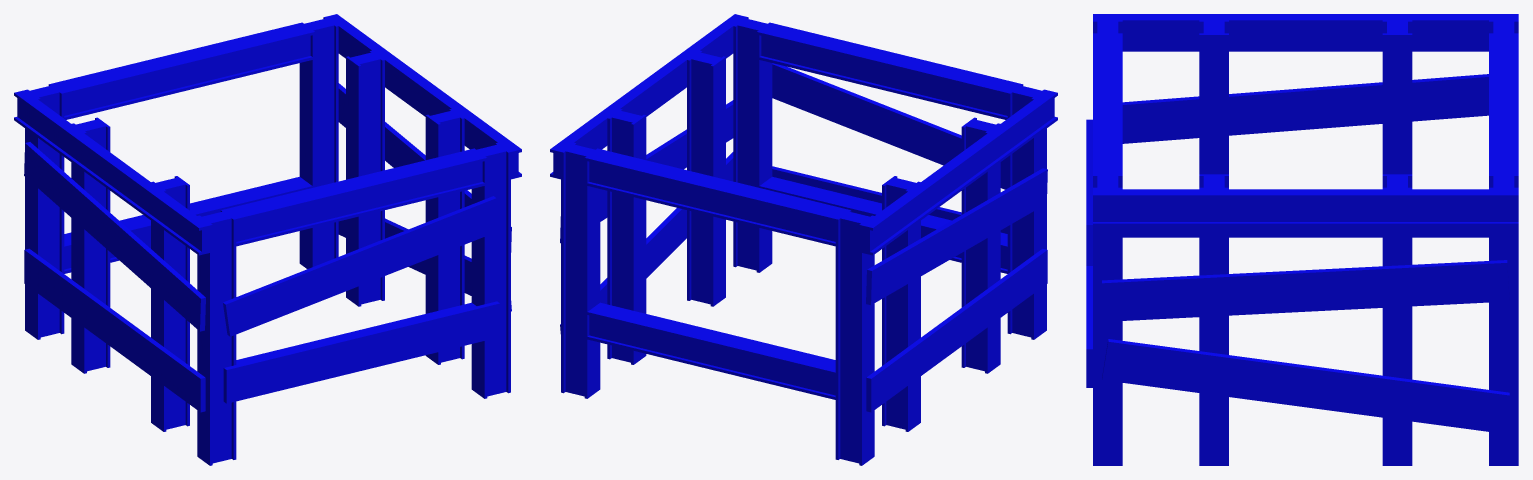
Rendered from Elevator_Tunnel_02.fbx.
3 views of the same model, side by side, from view 1: azimuth 30°, elevation 25°; view 2: azimuth 150°, elevation 25°; view 3: azimuth 270°, elevation 25° (orthographic). The views are drawn at different scales.
Parts seen in each view (by area): view 1: Elevator_Tunnel_02; view 2: Elevator_Tunnel_02; view 3: Elevator_Tunnel_02.
Boxes of the visible parts, x1,y1,x2,y2 form: Elevator_Tunnel_02: (14,14,521,465); Elevator_Tunnel_02: (550,14,1057,465); Elevator_Tunnel_02: (1086,14,1518,465).
Size of the model in its own units: 0.2811 by 0.2 by 0.2831.
